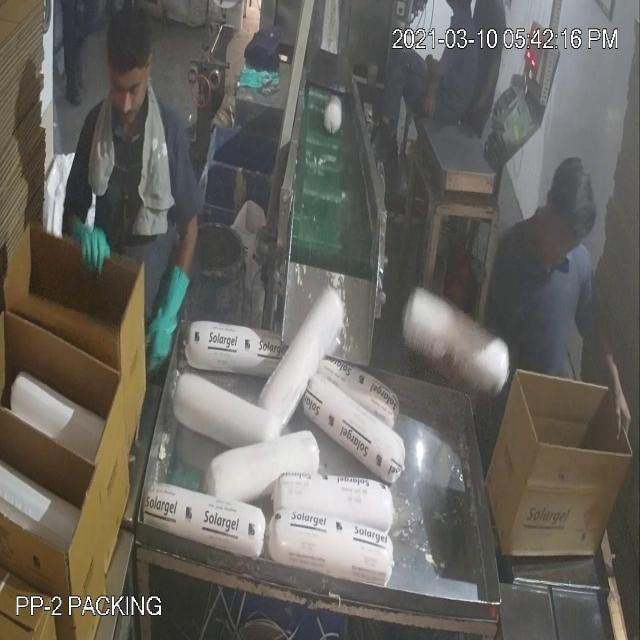No_Gloves: (38, 76, 605, 378)
